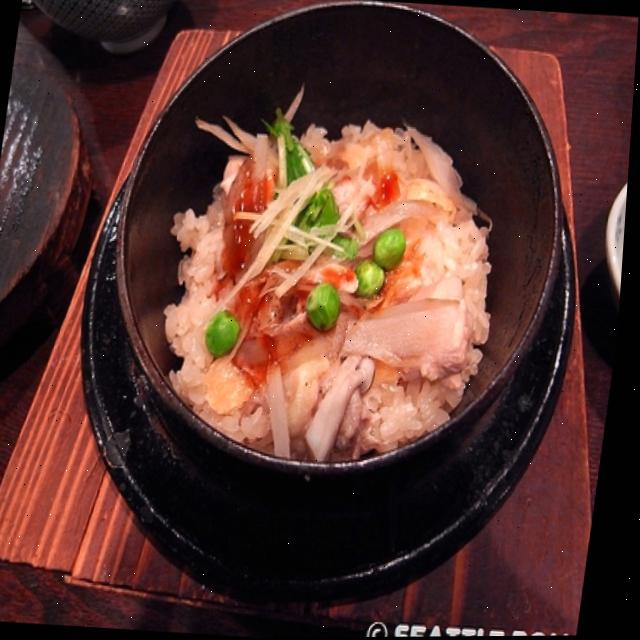鸡蛋料理: (42, 296, 517, 619)
